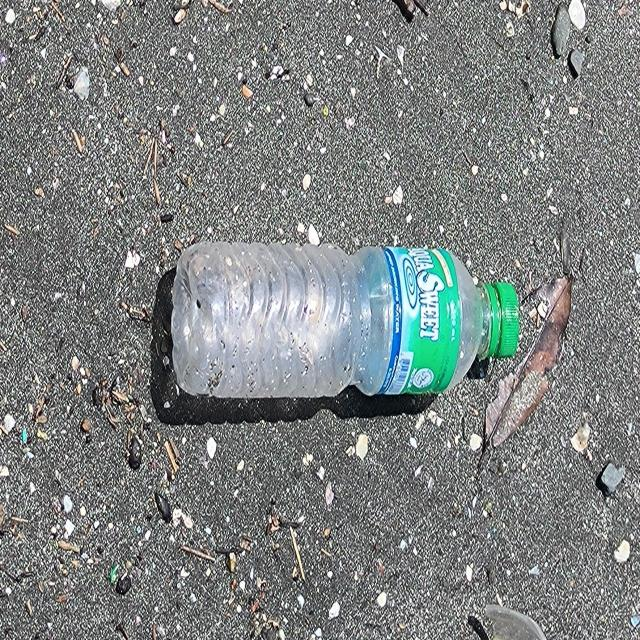plastic_waste: (170, 239, 520, 399)
